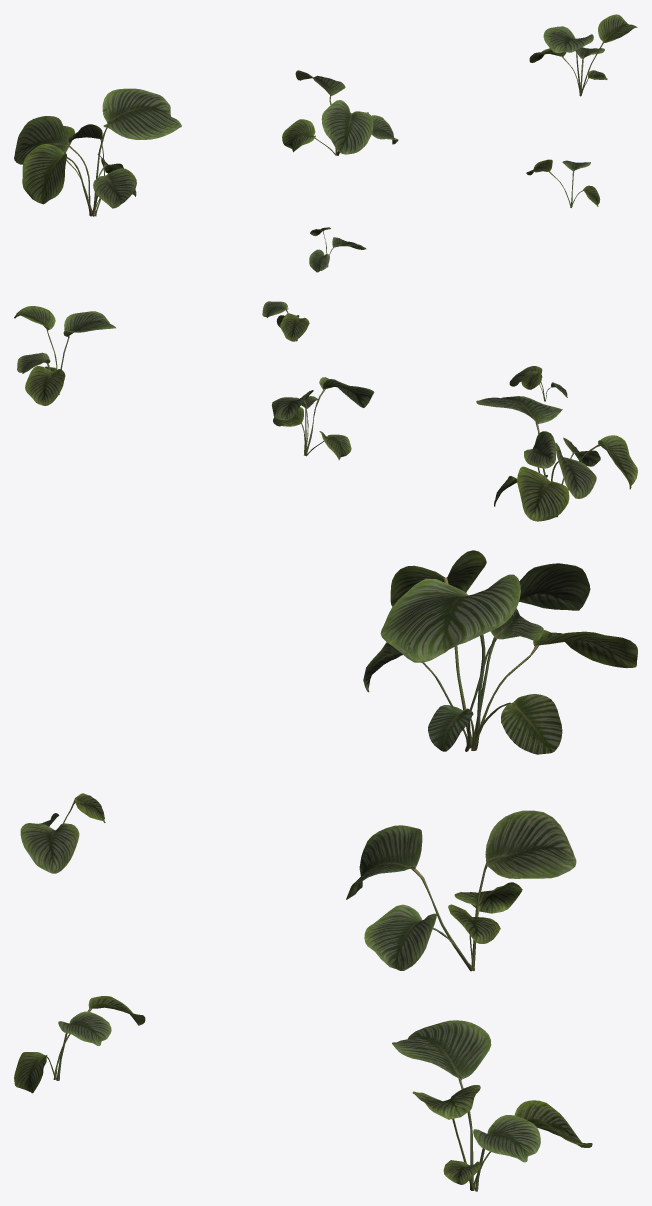
File: calathea_orbifolia_01.glb
3 renders of one model, top to bottom at view 1: azimuth 30°, elevation 25°; view 2: azimuth 150°, elevation 25°; view 3: azimuth 270°, elevation 25°, orthographic. The views are drawn at different scales.
Parts seen in each view (by area): view 1: calathea_orbifolia_01_a, calathea_orbifolia_01_b, calathea_orbifolia_01_c, calathea_orbifolia_01_e, calathea_orbifolia_01_d; view 2: calathea_orbifolia_01_a, calathea_orbifolia_01_c, calathea_orbifolia_01_b, calathea_orbifolia_01_e, calathea_orbifolia_01_d; view 3: calathea_orbifolia_01_a, calathea_orbifolia_01_b, calathea_orbifolia_01_c, calathea_orbifolia_01_e, calathea_orbifolia_01_d.
Part boxes in pixels (bbox=[...]): calathea_orbifolia_01_a: bbox=[14, 88, 181, 216]; calathea_orbifolia_01_b: bbox=[282, 70, 398, 155]; calathea_orbifolia_01_c: bbox=[529, 14, 637, 96]; calathea_orbifolia_01_e: bbox=[526, 159, 600, 207]; calathea_orbifolia_01_d: bbox=[309, 227, 366, 272]; calathea_orbifolia_01_a: bbox=[476, 396, 637, 521]; calathea_orbifolia_01_c: bbox=[14, 306, 115, 405]; calathea_orbifolia_01_b: bbox=[271, 377, 374, 459]; calathea_orbifolia_01_e: bbox=[262, 301, 309, 341]; calathea_orbifolia_01_d: bbox=[509, 366, 567, 401]; calathea_orbifolia_01_a: bbox=[363, 550, 637, 754]; calathea_orbifolia_01_b: bbox=[346, 810, 576, 971]; calathea_orbifolia_01_c: bbox=[392, 1020, 592, 1191]; calathea_orbifolia_01_e: bbox=[14, 996, 145, 1093]; calathea_orbifolia_01_d: bbox=[20, 793, 105, 873].
Size of the model in its own units: 2.49 by 0.4239 by 1.19.
1 material, 1 textured.
